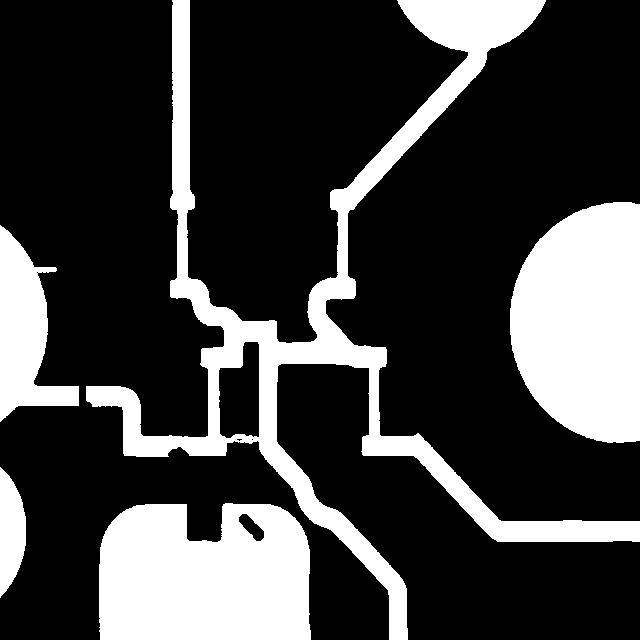copper: (229, 504, 273, 550)
mousebite: (23, 257, 66, 282)
open: (215, 424, 271, 453)
short: (69, 370, 101, 418)
spur: (158, 437, 198, 469)
